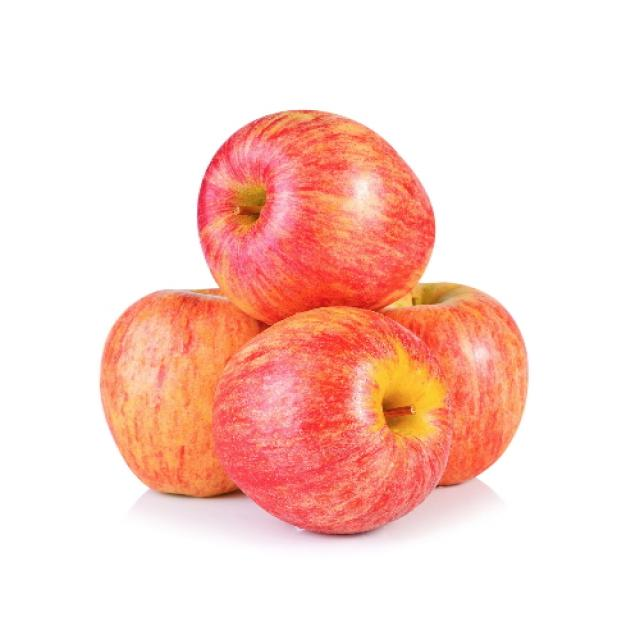Apple: (211, 284, 530, 538), (196, 109, 438, 329), (99, 291, 266, 500)
